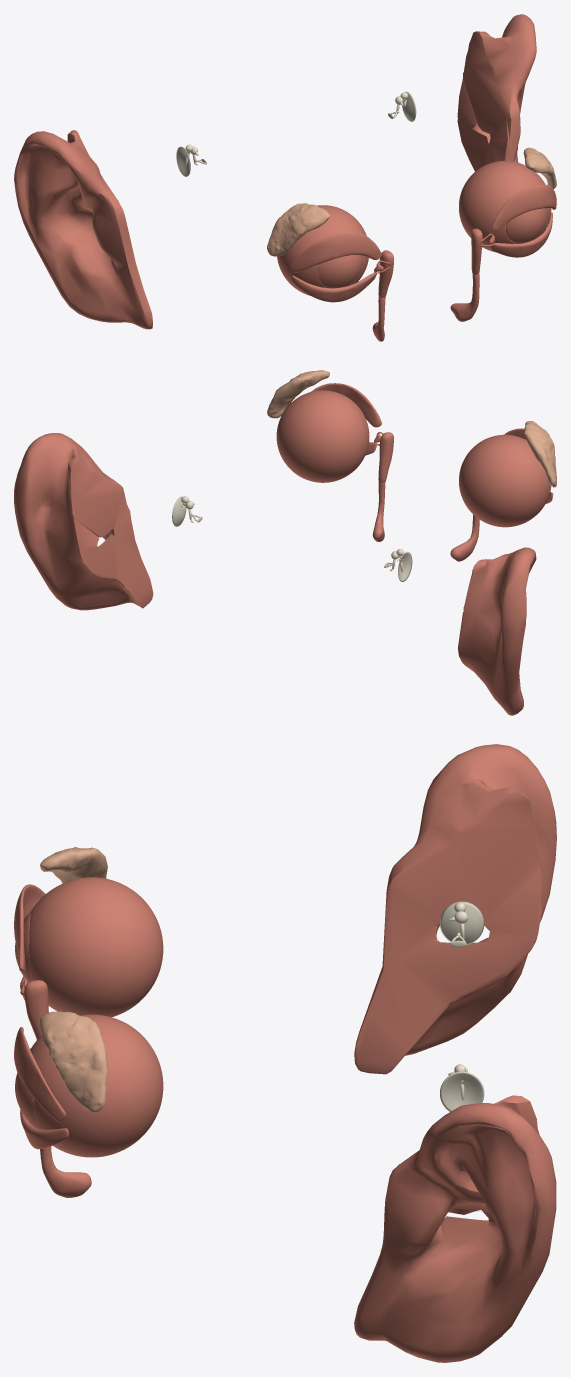
The model's file is sense_organs.head.glb.
The picture shows the model from 3 angles, top to bottom: view 1: azimuth 30°, elevation 25°; view 2: azimuth 150°, elevation 25°; view 3: azimuth 270°, elevation 25°; orthographic projection. The views are drawn at different scales.
Parts seen in each view (by area): view 1: external_ear, left_sclera_bp3d, right_sclera_bp3d, tarsal_plate_of_right_upper_eyelid, right_lacrimal_gland, tarsal_plate_of_left_upper_eyelid, right_cornea_bp3d, left_cornea_bp3d, tarsal_plate_of_right_lower_eyelid, tarsal_plate_of_left_lower_eyelid, left_lacrimal_gland, left_nasolacrimal_duct (+2 smaller); view 2: external_ear, left_sclera_bp3d, right_sclera_bp3d, left_lacrimal_gland, right_lacrimal_gland, tarsal_plate_of_left_upper_eyelid, left_lacrimal_sac, right_nasolacrimal_duct, left_nasolacrimal_duct; view 3: external_ear, right_sclera_bp3d, left_sclera_bp3d, left_lacrimal_gland, right_lacrimal_gland, tarsal_plate_of_left_upper_eyelid, left_nasolacrimal_duct, left_tympanic_membrane_legacy, right_tympanic_membrane_legacy, tarsal_plate_of_right_upper_eyelid, right_lacrimal_sac, tarsal_plate_of_left_lower_eyelid.
Part boxes in pixels (<box>): external_ear: <box>14,14,536,329</box>; left_sclera_bp3d: <box>459,160,551,252</box>; right_sclera_bp3d: <box>277,205,368,295</box>; tarsal_plate_of_right_upper_eyelid: <box>290,232,382,272</box>; right_lacrimal_gland: <box>267,203,330,256</box>; tarsal_plate_of_left_upper_eyelid: <box>492,184,556,230</box>; right_cornea_bp3d: <box>318,255,362,288</box>; left_cornea_bp3d: <box>506,208,547,243</box>; tarsal_plate_of_right_lower_eyelid: <box>291,272,376,302</box>; tarsal_plate_of_left_lower_eyelid: <box>491,212,552,257</box>; left_lacrimal_gland: <box>523,147,556,189</box>; left_nasolacrimal_duct: <box>450,274,479,321</box>; external_ear: <box>14,433,536,715</box>; left_sclera_bp3d: <box>276,390,369,482</box>; right_sclera_bp3d: <box>459,434,551,527</box>; left_lacrimal_gland: <box>267,370,329,418</box>; right_lacrimal_gland: <box>524,421,556,486</box>; tarsal_plate_of_left_upper_eyelid: <box>311,383,381,427</box>; left_lacrimal_sac: <box>378,432,393,482</box>; right_nasolacrimal_duct: <box>450,514,479,561</box>; left_nasolacrimal_duct: <box>372,481,385,541</box>; external_ear: <box>354,744,556,1362</box>; right_sclera_bp3d: <box>29,877,163,1017</box>; left_sclera_bp3d: <box>30,1014,163,1157</box>; left_lacrimal_gland: <box>40,1011,107,1112</box>; right_lacrimal_gland: <box>40,847,107,883</box>; tarsal_plate_of_left_upper_eyelid: <box>14,1027,66,1122</box>; left_nasolacrimal_duct: <box>40,1146,91,1197</box>; left_tympanic_membrane_legacy: <box>440,1071,484,1111</box>; right_tympanic_membrane_legacy: <box>440,901,484,944</box>; tarsal_plate_of_right_upper_eyelid: <box>14,884,45,971</box>; right_lacrimal_sac: <box>24,980,48,1039</box>; tarsal_plate_of_left_lower_eyelid: <box>20,1109,69,1149</box>.
Bounding box in the file's own units: 0.1675 × 0.057 × 0.0997.
